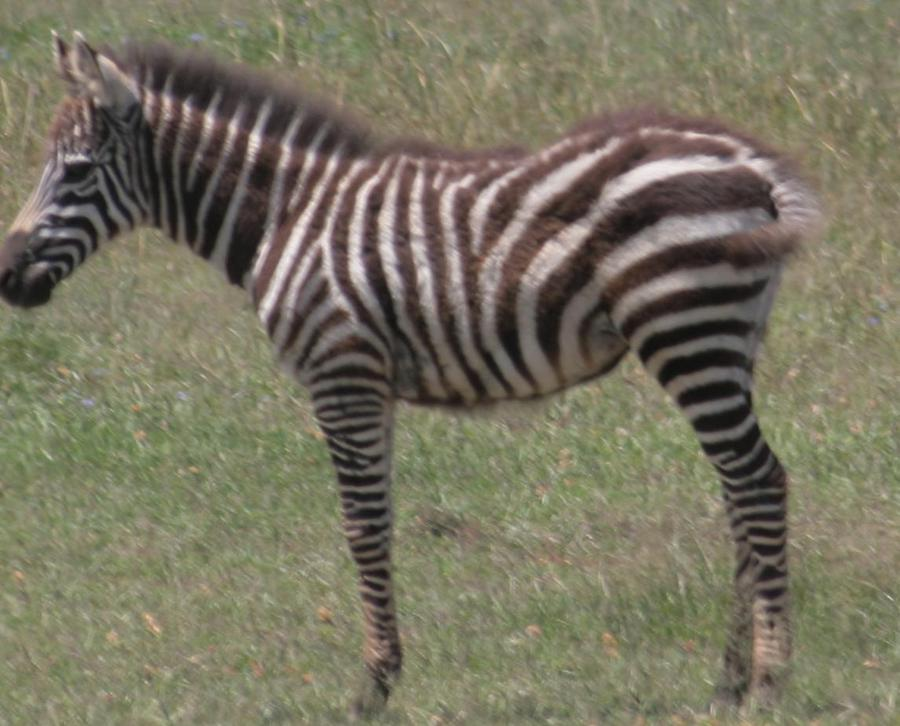zebra_plains: (208, 77, 827, 451)
